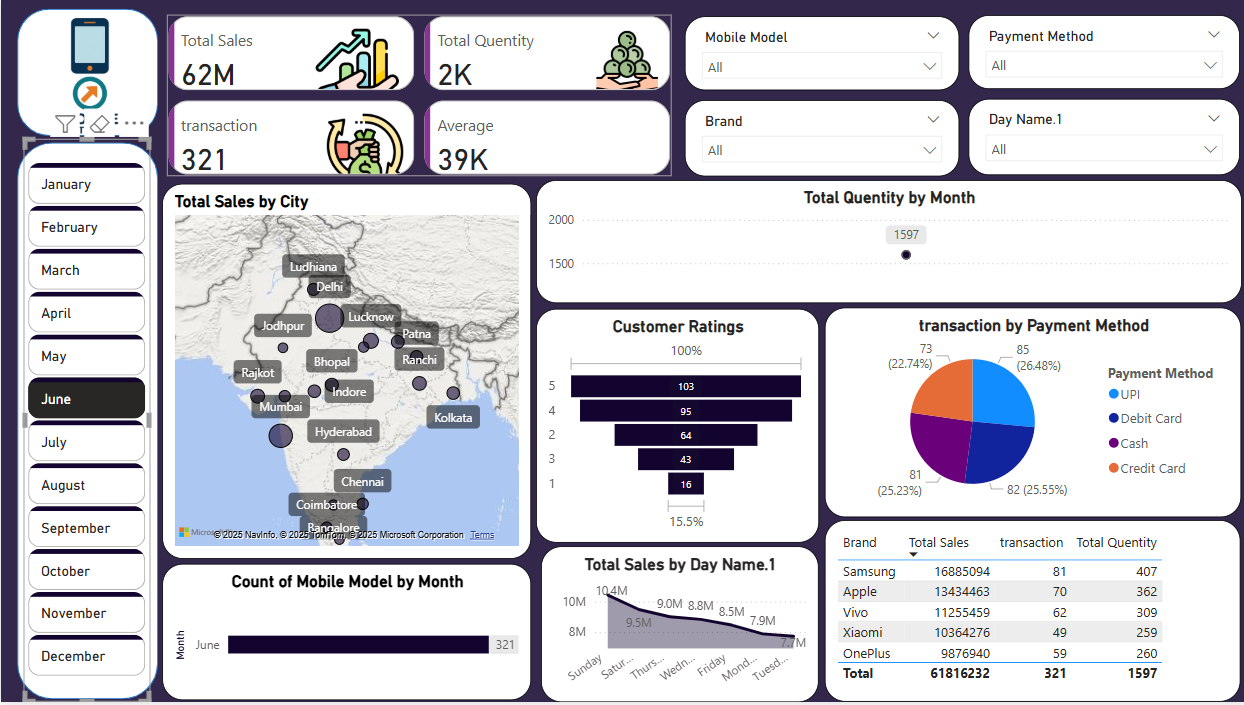

What the dashboard file says about the page in this screenshot:
{"tool":"powerbi","page":{"name":"Page 1","canvas":[1280,720],"ordinal":0},"visuals":[{"type":"shape","box":[16.5,8.9,144.3,130.4],"z":0},{"type":"shape","box":[16.5,145.6,144.3,570.9],"z":1000},{"type":"advancedSlicerVisual","fields":{"Values":["Sheet1.Date.Variation.Date Hierarchy.Month"]},"box":[22.8,142.8,130.4,577.2],"z":2000},{"type":"cardVisual","fields":{"Data":["Sales_Data.Total Sales","Sales_Data.Total Quentity","Sales_Data.transaction","Sales_Data.Average"]},"box":[165,10,528.3,176.7],"z":3000},{"type":"map","fields":{"Category":["Sales_Data.City"],"Size":["Sales_Data.Total Sales"]},"box":[165,188.8,378.8,385],"z":4000},{"type":"lineChart","fields":{"Category":["Sales_Data.Date.Variation.Date Hierarchy.Month","Sales_Data.Date.Variation.Date Hierarchy.Day"],"Y":["Sales_Data.Total Quentity"]},"box":[548.8,185,723.8,126.2],"z":5000},{"type":"barChart","fields":{"Category":["Sales_Data.Date.Variation.Date Hierarchy.Month","Sales_Data.Date.Variation.Date Hierarchy.Day"],"Y":["CountNonNull(Sales_Data.Mobile Model)"]},"box":[165,578.8,378.8,140],"z":6000},{"type":"pieChart","fields":{"Y":["Sales_Data.transaction"],"Category":["Sales_Data.Payment Method"]},"box":[845,315,427.5,215],"z":7000},{"type":"funnel","title":" Customer Ratings","fields":{"Category":["Sales_Data.Customer Ratings"],"Y":["CountNonNull(Sales_Data.Customer Ratings)"]},"box":[548.8,316.2,290,240],"z":8000},{"type":"areaChart","fields":{"Category":["Sales_Data.Day Name.1"],"Y":["Sales_Data.Total Sales"]},"box":[553.8,560,285,160],"z":9000},{"type":"tableEx","fields":{"Values":["Sales_Data.Brand","Sales_Data.Total Sales","Sales_Data.transaction","Sales_Data.Total Quentity"]},"box":[845,533.8,426.2,186.2],"z":10000},{"type":"slicer","fields":{"Values":["Sales_Data.Mobile Model"]},"box":[701.4,17.1,281.4,75.7],"z":11000},{"type":"slicer","fields":{"Values":["Sales_Data.Payment Method"]},"box":[992.9,15.7,278.6,75.7],"z":12000},{"type":"slicer","fields":{"Values":["Sales_Data.Brand"]},"box":[701.4,102.9,281.4,78.6],"z":13000},{"type":"slicer","fields":{"Values":["Sales_Data.Day Name.1"]},"box":[992.9,101.4,278.6,78.6],"z":14000},{"type":"image","box":[0,0,182.9,153.9],"z":15000}]}

Visuals, with their boxes in screenshot pixels (x1, y1, x2, y2), scaled from the page's 1280x720 canvas onto the 1244x705 screenshot:
shape: region(16, 9, 156, 136)
shape: region(16, 143, 156, 702)
advancedSlicerVisual - Sheet1.Date.Variation.Date Hierarchy.Month: region(22, 140, 149, 704)
cardVisual - Sales_Data.Total Sales x Sales_Data.Total Quentity: region(160, 10, 674, 183)
map - Sales_Data.City x Sales_Data.Total Sales: region(160, 185, 529, 562)
lineChart - Sales_Data.Date.Variation.Date Hierarchy.Month x Sales_Data.Date.Variation.Date Hierarchy.Day: region(533, 181, 1237, 305)
barChart - Sales_Data.Date.Variation.Date Hierarchy.Month x Sales_Data.Date.Variation.Date Hierarchy.Day: region(160, 567, 529, 704)
pieChart - Sales_Data.transaction x Sales_Data.Payment Method: region(821, 308, 1237, 519)
" Customer Ratings" funnel: region(533, 310, 815, 545)
areaChart - Sales_Data.Day Name.1 x Sales_Data.Total Sales: region(538, 548, 815, 704)
tableEx - Sales_Data.Brand x Sales_Data.Total Sales: region(821, 523, 1235, 704)
slicer - Sales_Data.Mobile Model: region(682, 17, 955, 91)
slicer - Sales_Data.Payment Method: region(965, 15, 1236, 89)
slicer - Sales_Data.Brand: region(682, 101, 955, 178)
slicer - Sales_Data.Day Name.1: region(965, 99, 1236, 176)
image: region(0, 0, 178, 151)
